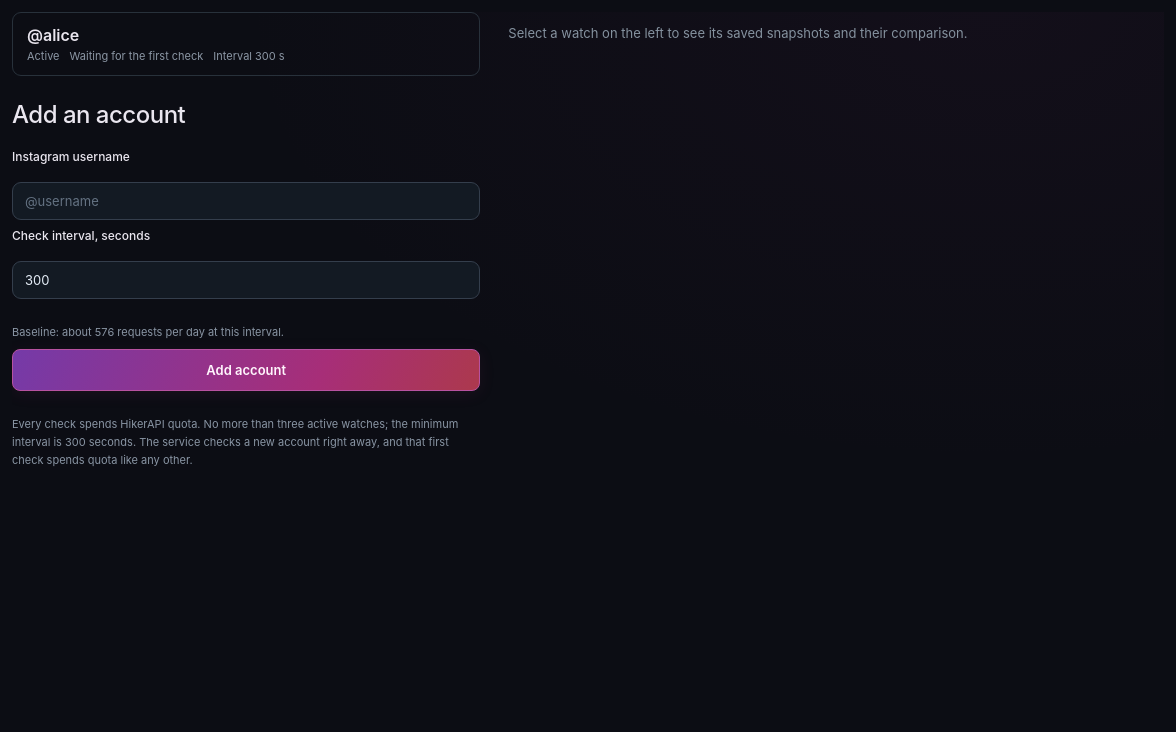
Test: watches view › keeps the profile card on screen while the reload that follows the check runs
Click the option "@alice Active Waiting for the first check Interval 300 s" at (53, 35), box [12, 12, 480, 76]
Wait 5000 ms
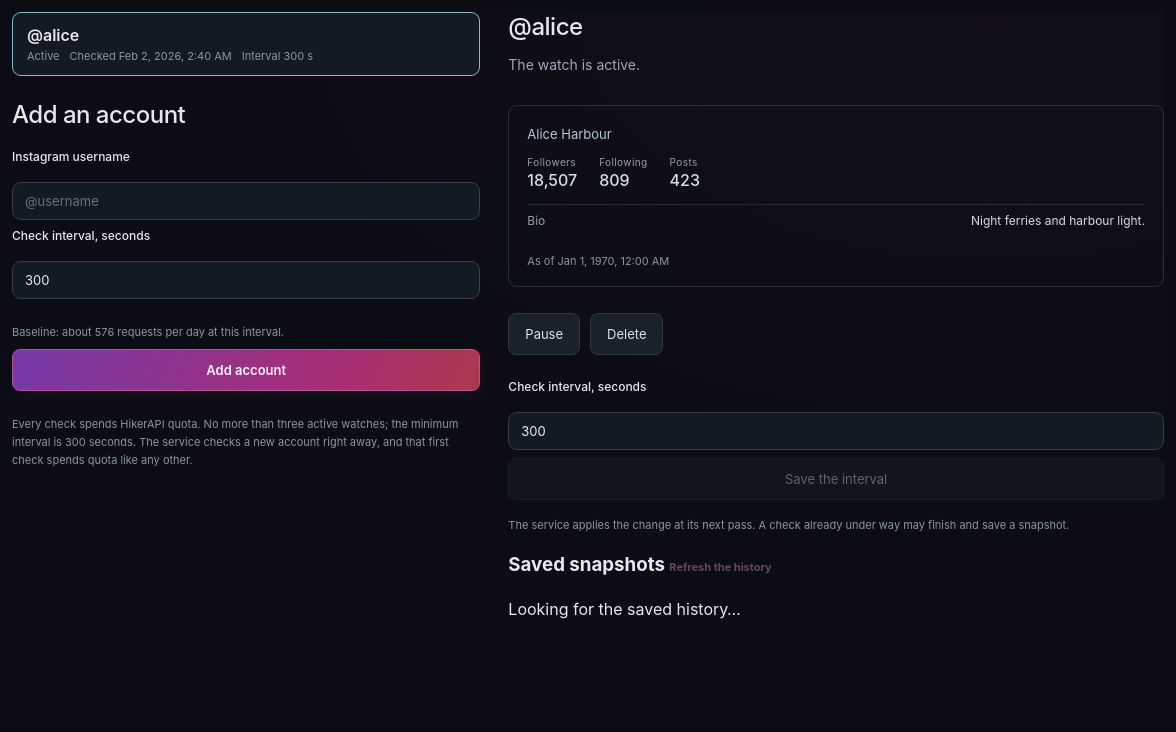
expect the element named "Profile at the last check" is shown: met, box [508, 105, 1164, 287]
expect the text "Alice Harbour" is shown: met, box [527, 126, 612, 142]
